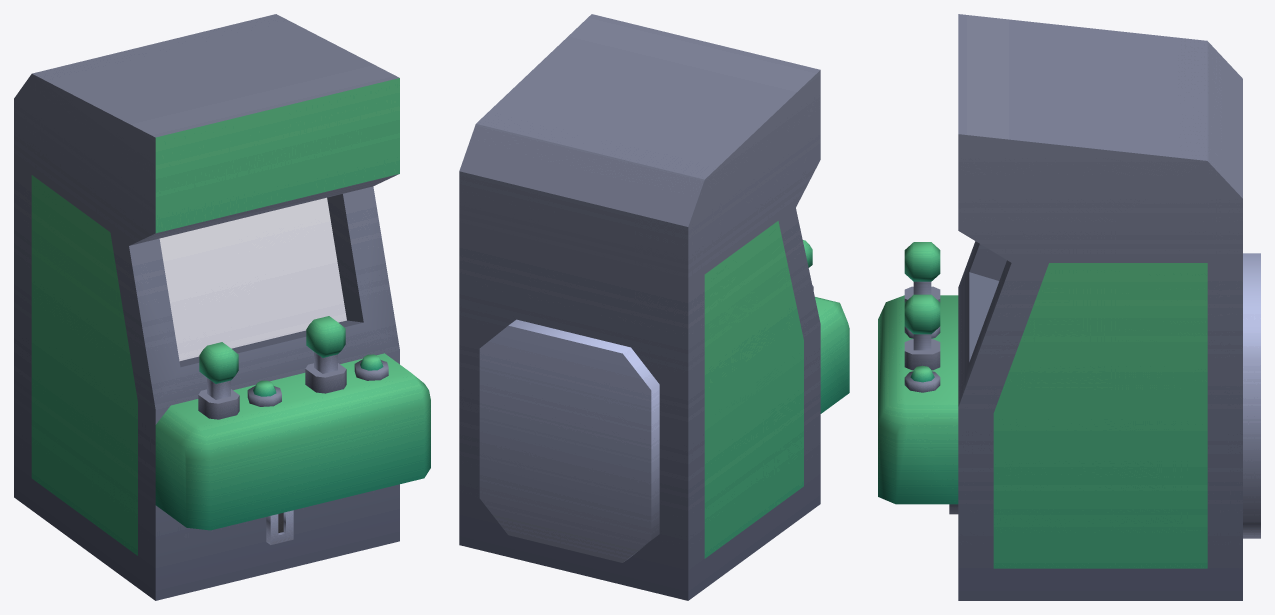
Rendered from arcade-machine.004_lev2.glb.
3 renders of one model, left to right at view 1: azimuth 30°, elevation 25°; view 2: azimuth 150°, elevation 25°; view 3: azimuth 270°, elevation 25°, orthographic. The views are drawn at different scales.
Parts seen in each view (by area): view 1: arcade-machine.004_lev2; view 2: arcade-machine.004_lev2; view 3: arcade-machine.004_lev2.
Boxes of the visible parts, bbox=[...] form: arcade-machine.004_lev2: bbox=[14, 14, 430, 600]; arcade-machine.004_lev2: bbox=[459, 14, 849, 600]; arcade-machine.004_lev2: bbox=[878, 14, 1260, 600].
Size of the model in its own units: 1.6 by 2.9 by 2.15.
Materials: 1 (1 with a texture image).
